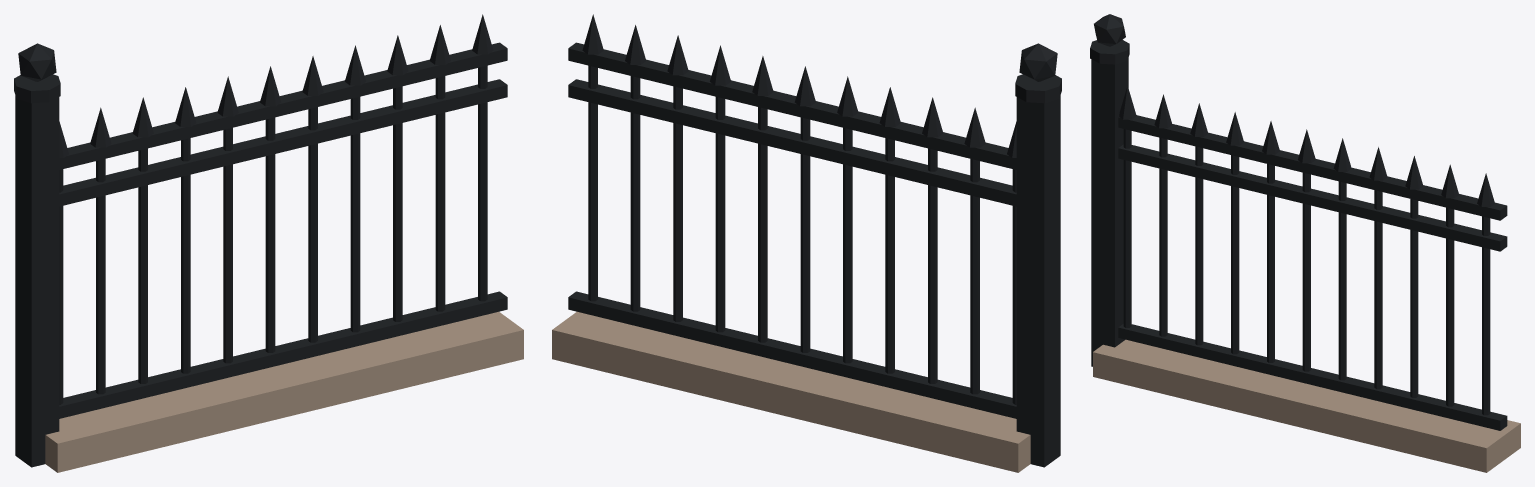
Rendered from iron_fence.fbx.
3 views of the same model, side by side, from view 1: azimuth 30°, elevation 25°; view 2: azimuth 150°, elevation 25°; view 3: azimuth 330°, elevation 25° (orthographic). The views are drawn at different scales.
Visible parts, largest first — view 1: iron_fence; view 2: iron_fence; view 3: iron_fence.
Part boxes in pixels (x1,y1,x2,y2): iron_fence: [14, 14, 523, 472]; iron_fence: [552, 14, 1061, 472]; iron_fence: [1090, 14, 1520, 472].
Bounding box in the file's own units: 2.09 × 1.7 × 0.3.
